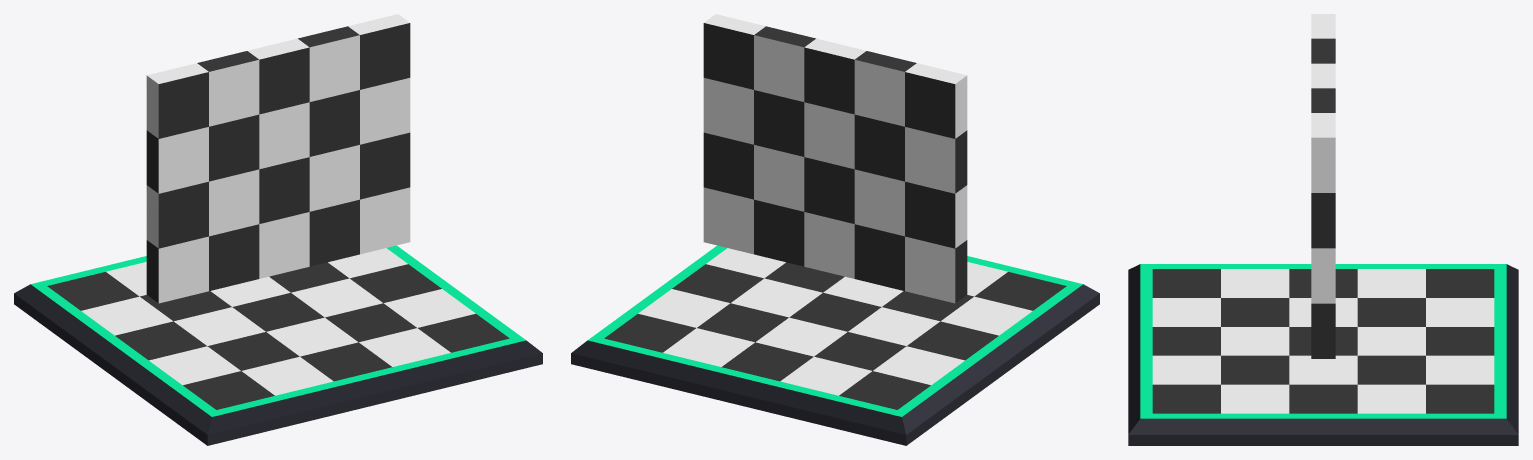
Rendered from PMP-M-Finish-V1.fbx.
3 renders of one model, left to right at view 1: azimuth 30°, elevation 25°; view 2: azimuth 150°, elevation 25°; view 3: azimuth 270°, elevation 25°, orthographic.
Visible parts, largest first — view 1: Finish; view 2: Finish; view 3: Finish.
Part boxes in pixels (<box>): Finish: <box>14,14,542,445</box>; Finish: <box>571,14,1099,445</box>; Finish: <box>1128,14,1518,445</box>.
Size of the model in its own units: 320 by 260 by 320.
